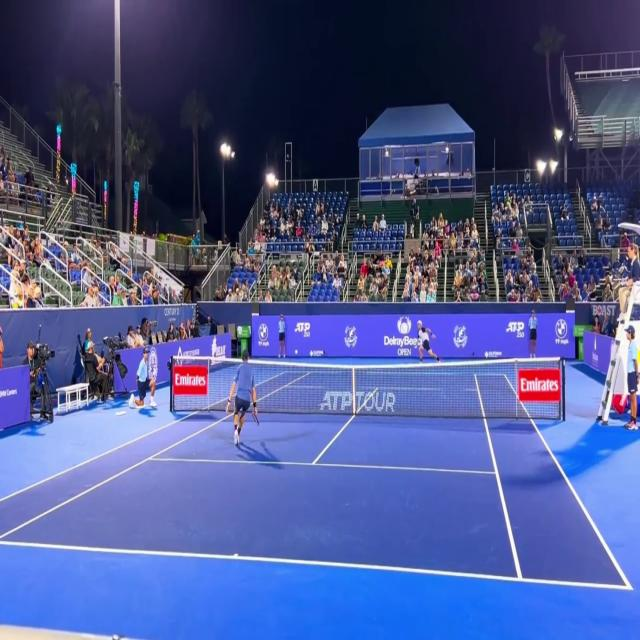tennisBall: (294, 348, 298, 356)
